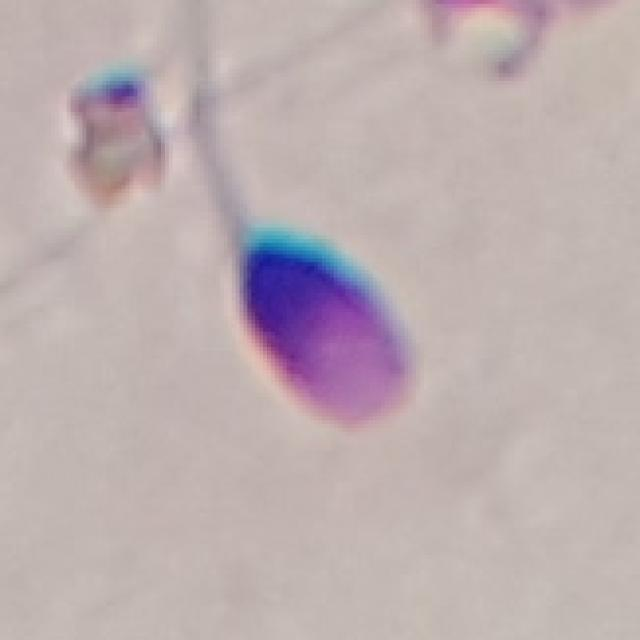non-sperm: (64, 68, 170, 206)
normal sperm: (202, 142, 417, 432)
